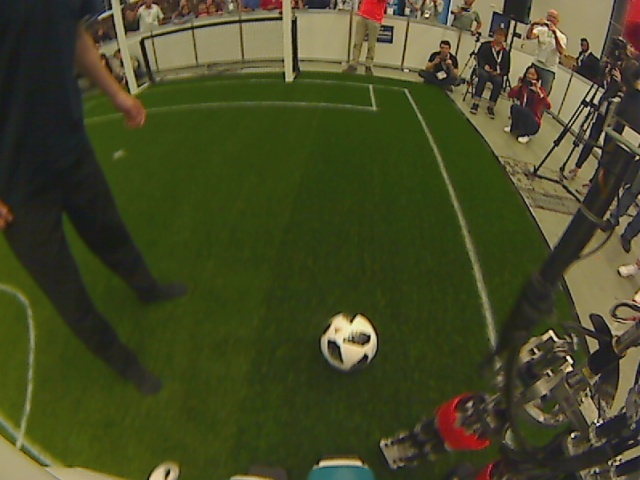ball: (321, 310, 380, 374)
